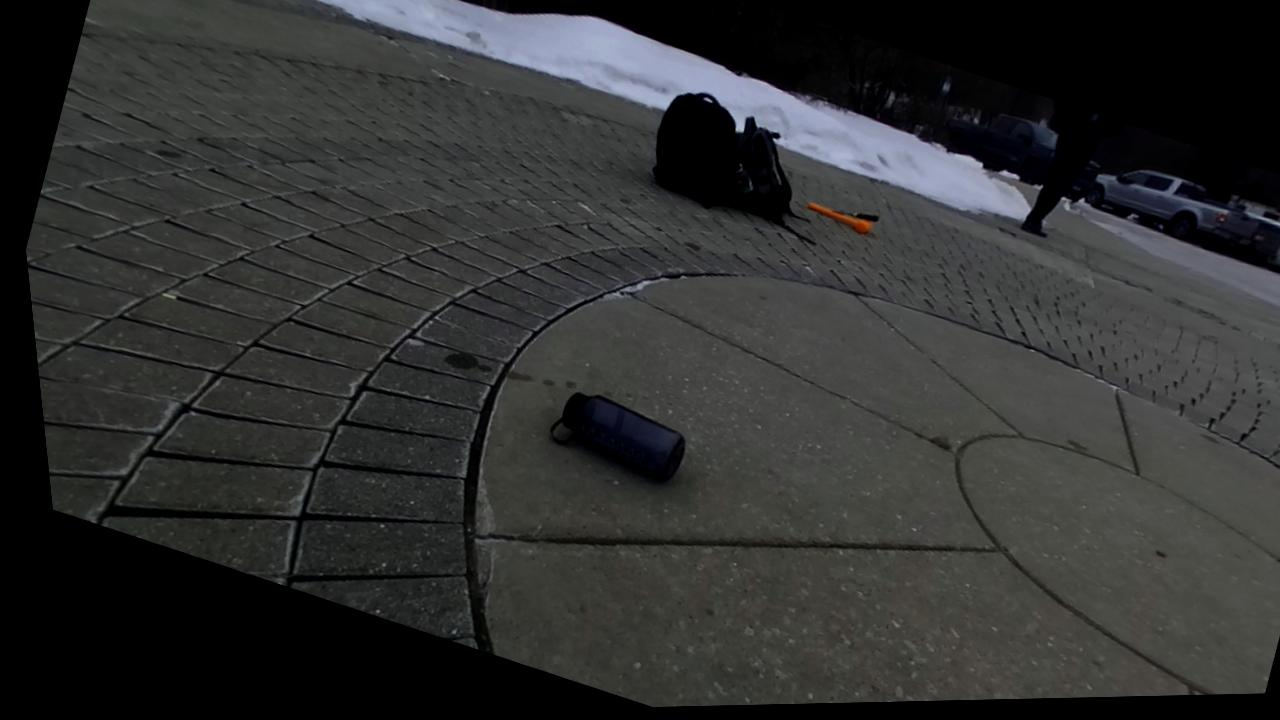bottle: (554, 392, 684, 479)
mallet: (808, 203, 869, 234)
